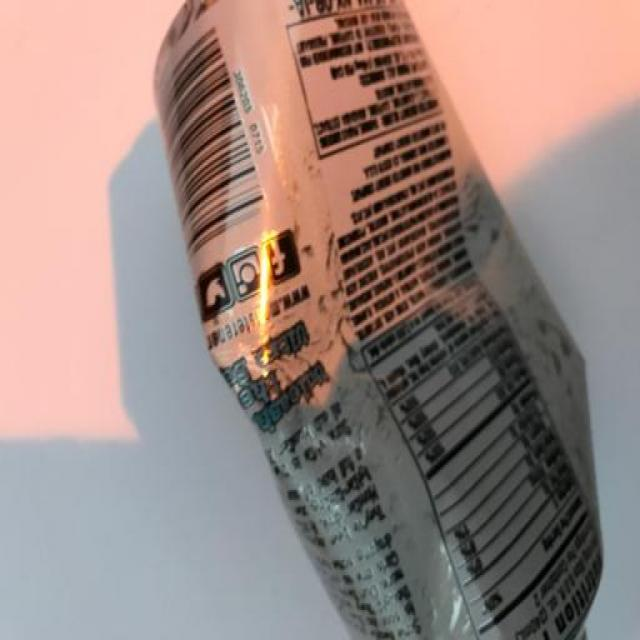metel: (120, 1, 640, 640)
